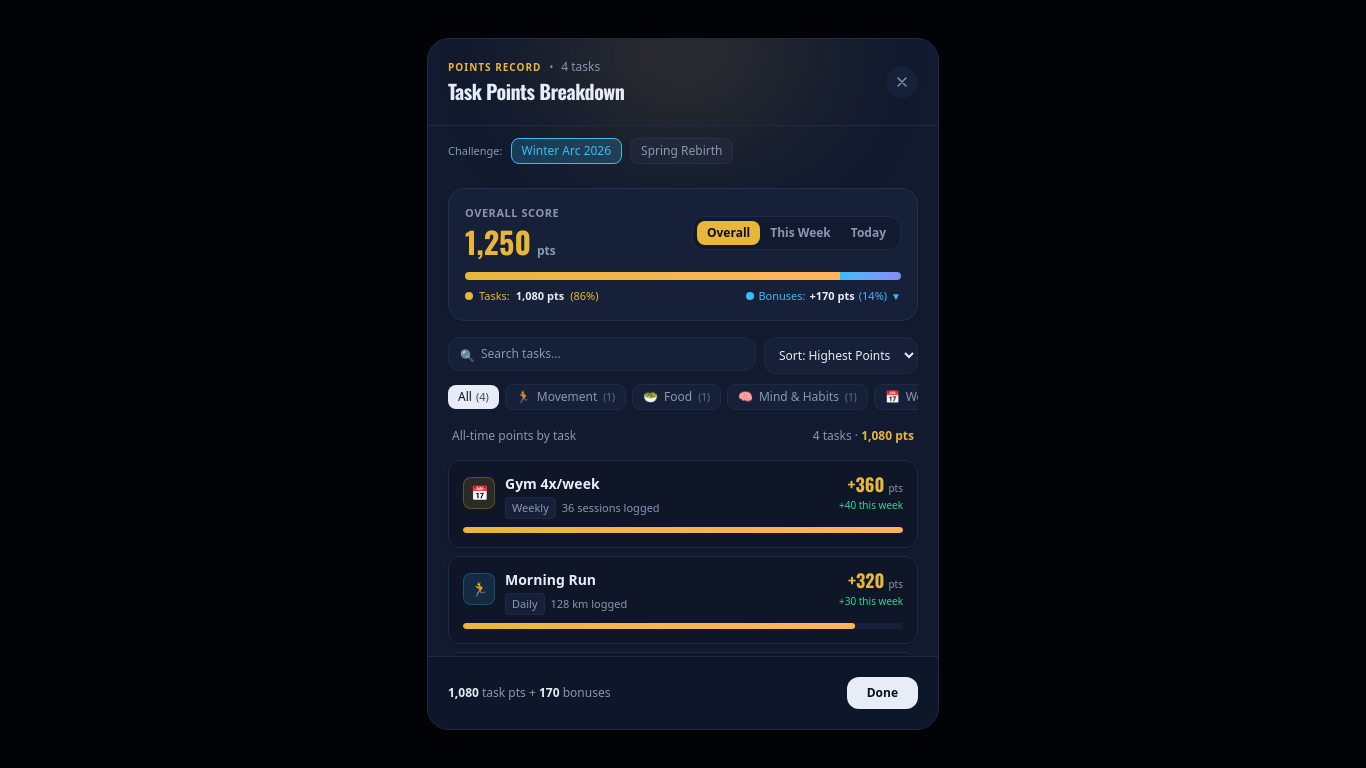
TaskPointsModal › switches challenge using challenge selector pills
Check: the heading "Morning Run" is shown, box [505,570,596,589]
Note: Click "Spring Rebirth" challenge tab
Click the button "Spring Rebirth" at (682, 151), box [630,138,734,164]
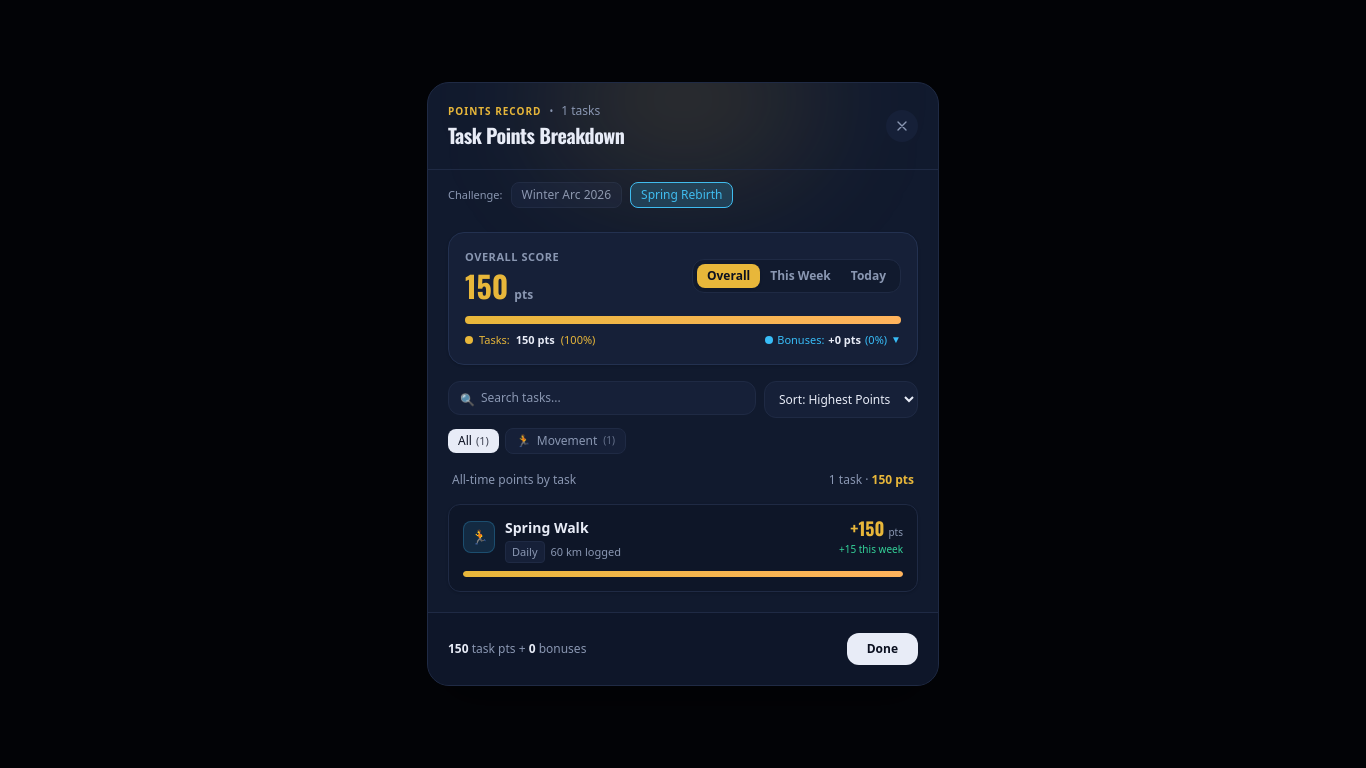
Check: the heading "Spring Walk" is shown, box [505,518,589,537]
Check: the heading "Morning Run" is gone
